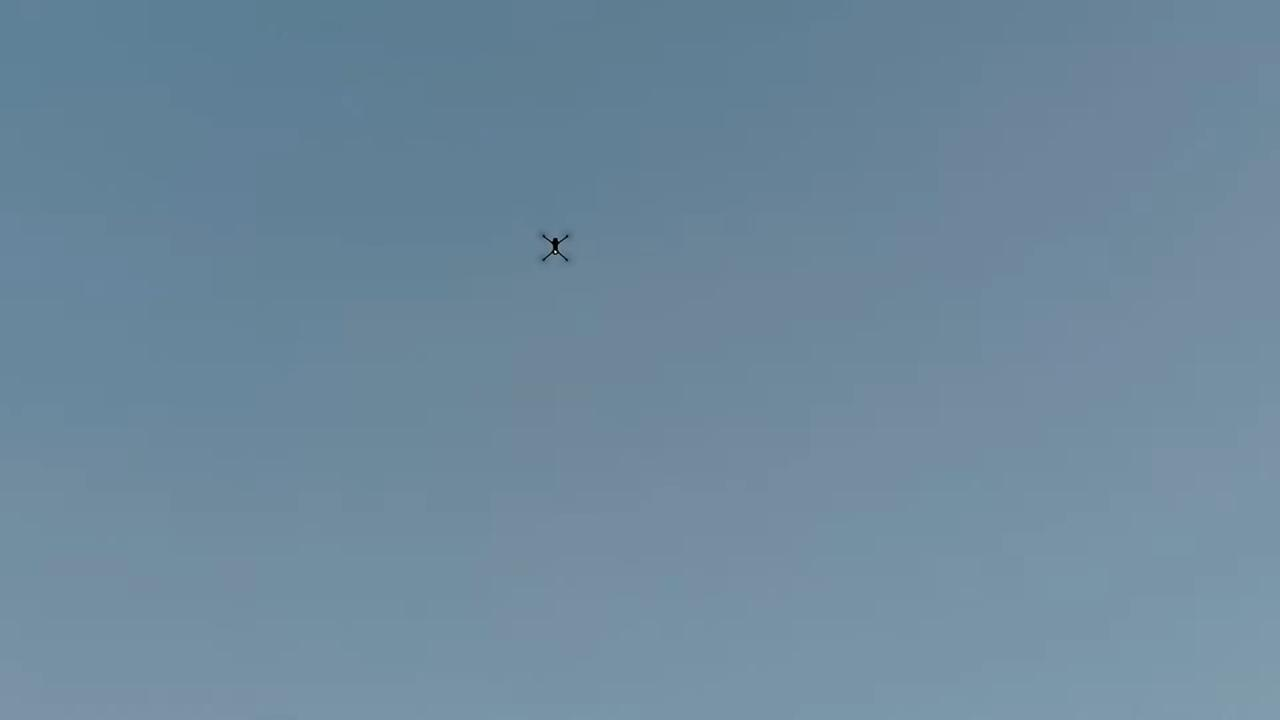Drone: (532, 221, 580, 274)
